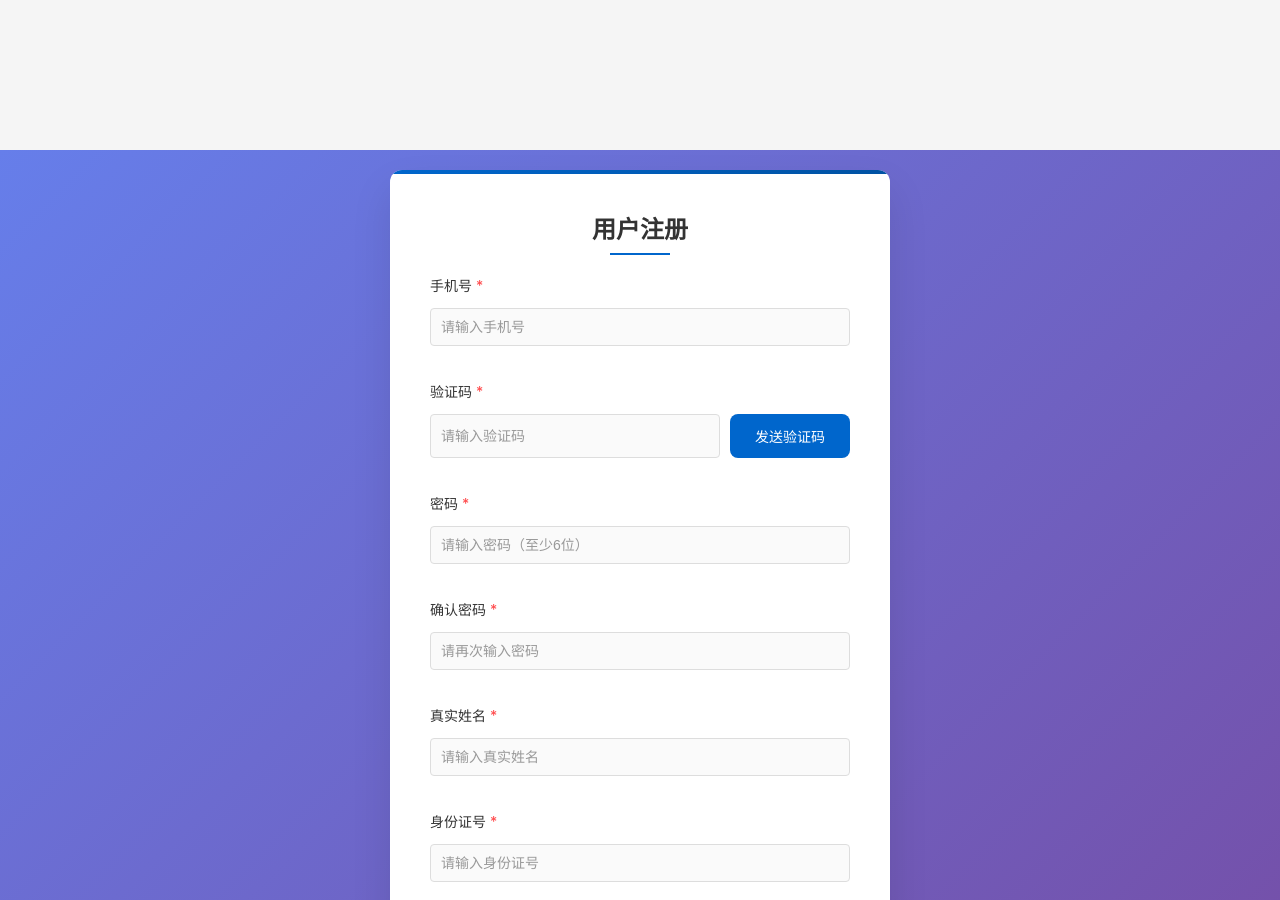
Test case: RegisterPage Component › 应该显示验证码发送倒计时
The image size is (1280, 900).
Type "13800138000" into the field labelled "手机号" at (640, 327), box 430,308 -> 850,346
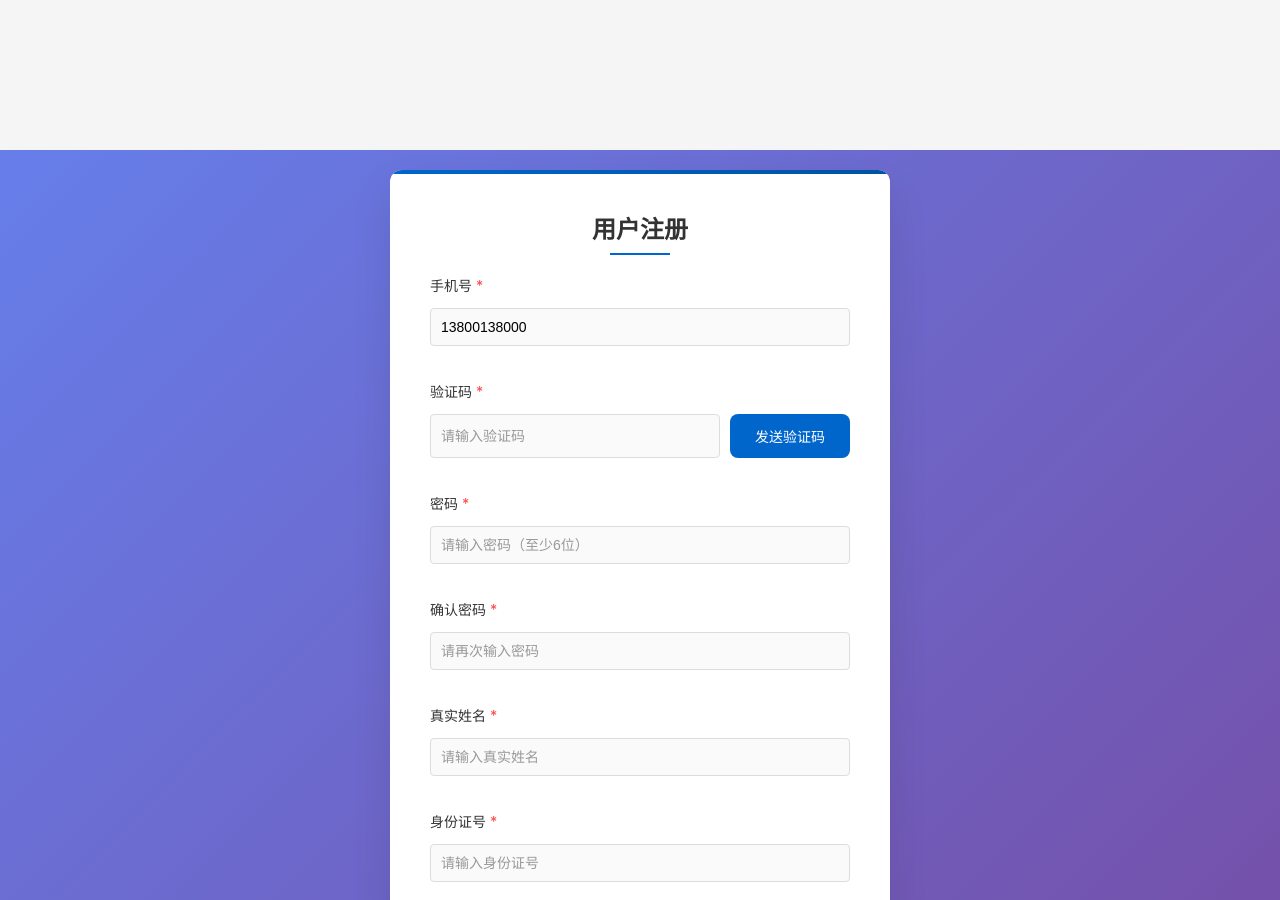
Click the button "发送验证码" at (790, 436), box 730,414 -> 850,458
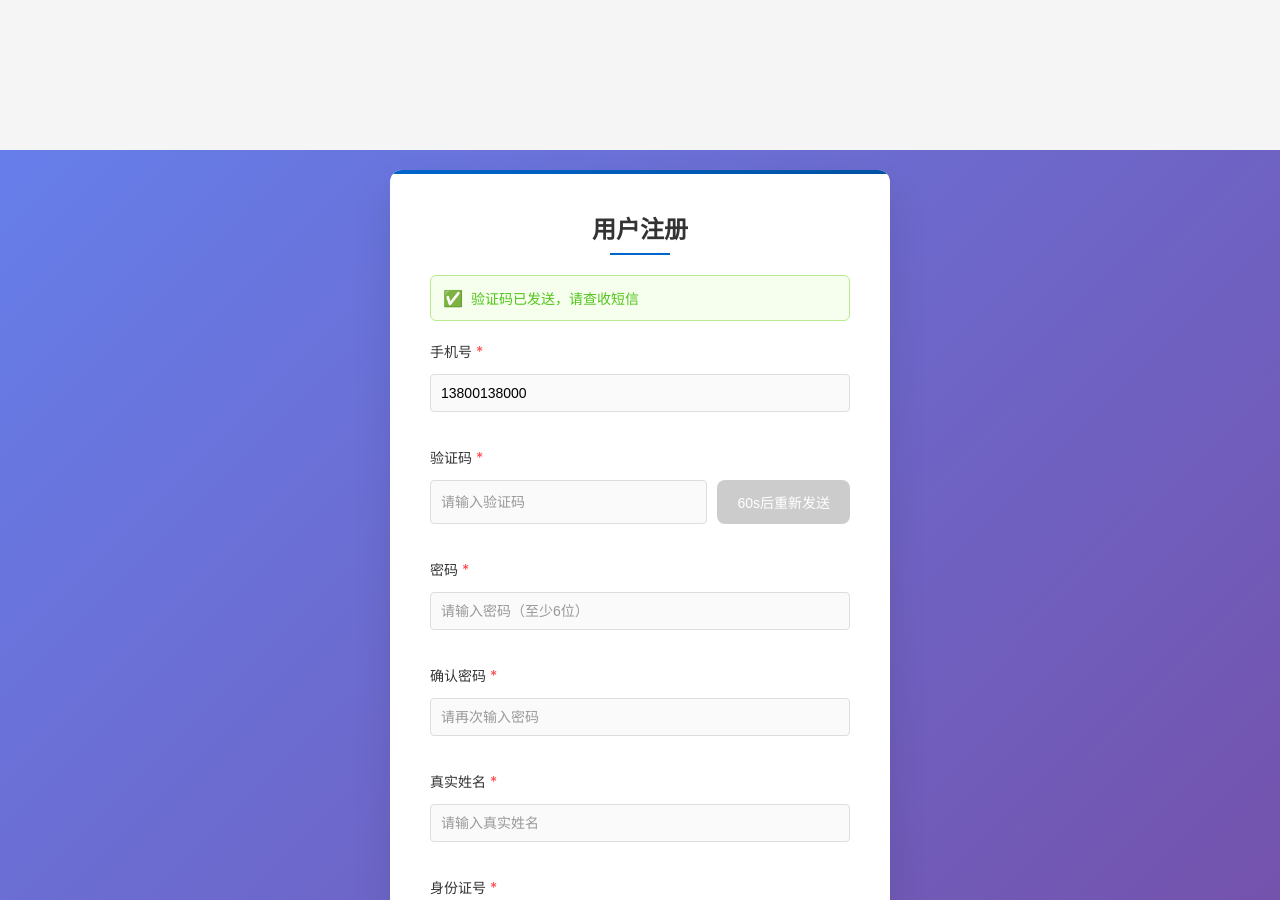
Now the button "60s后重新发送" is shown, box 717,480 -> 850,524
